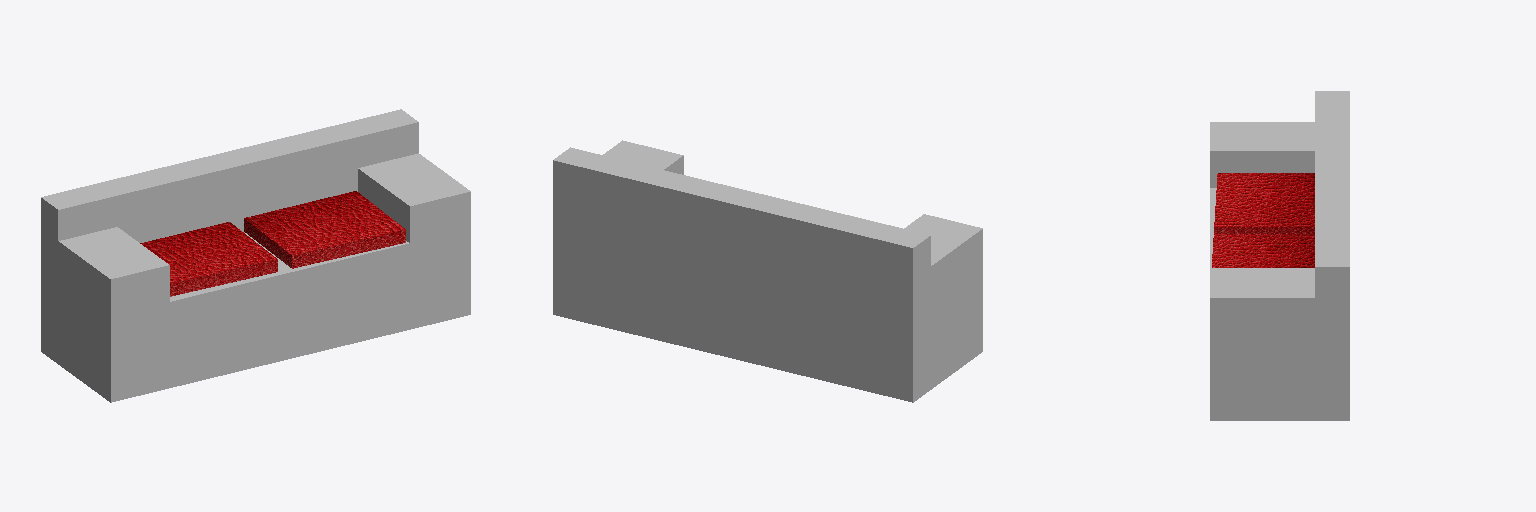
The picture shows the model from 3 angles: view 1: azimuth 30°, elevation 25°; view 2: azimuth 150°, elevation 25°; view 3: azimuth 270°, elevation 25°; orthographic projection.
Visible parts, largest first — view 1: Cube, Cube.002, Cube.001_Cube.003; view 2: Cube; view 3: Cube, Cube.001_Cube.003, Cube.002.
Part boxes in pixels (x1,y1,x2,y2): Cube: (41,109,470,402); Cube.002: (244,191,405,268); Cube.001_Cube.003: (140,222,277,296); Cube: (553,140,982,402); Cube: (1210,91,1349,420); Cube.001_Cube.003: (1214,173,1314,234); Cube.002: (1212,233,1314,267).
Size of the model in its own units: 5.97 by 2.44 by 2.
Materials: 2 (1 with a texture image).